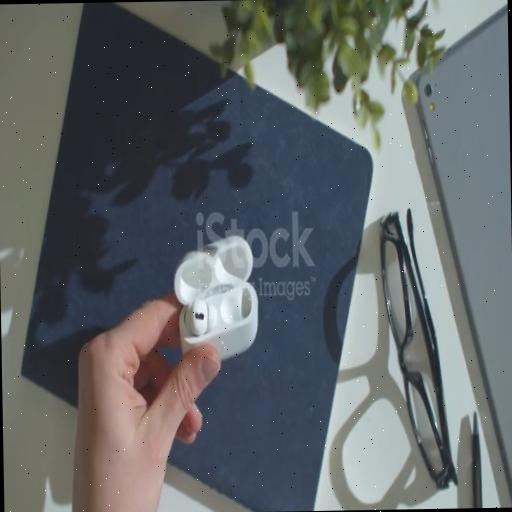earphone: (166, 234, 268, 376)
